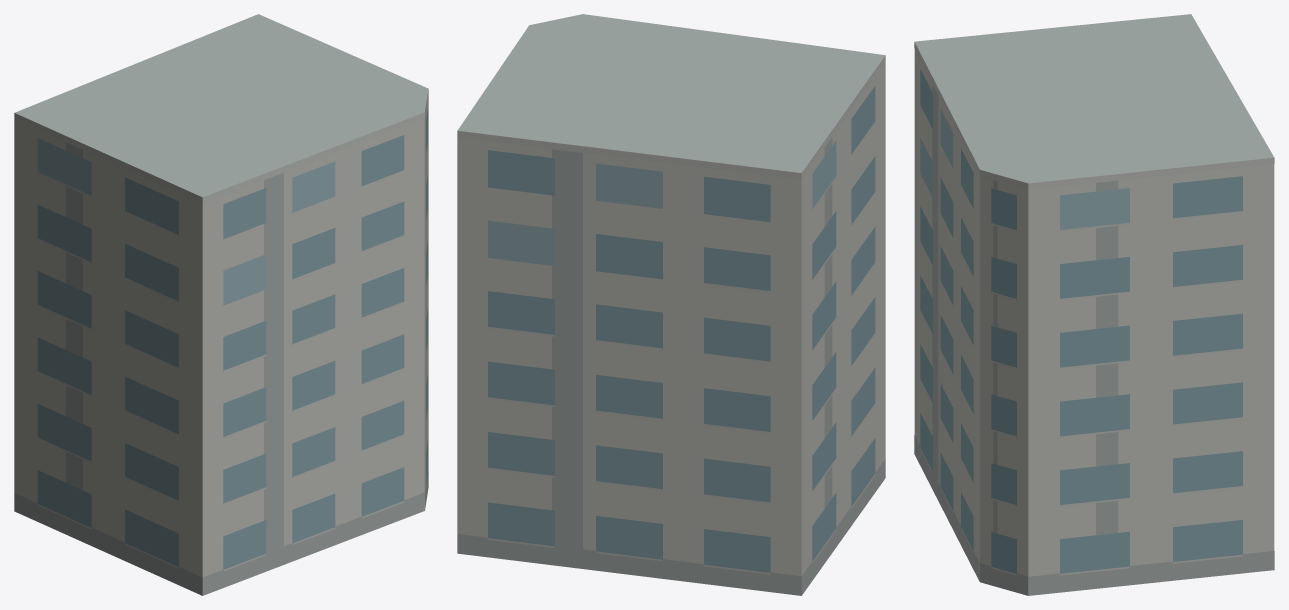
Rendered from survey-upis-32910946.glb.
3 views of the same model, side by side, from view 1: azimuth 30°, elevation 25°; view 2: azimuth 150°, elevation 25°; view 3: azimuth 270°, elevation 25° (orthographic). The views are drawn at different scales.
Parts seen in each view (by area): view 1: survey-upis-32910946.tmp; view 2: survey-upis-32910946.tmp; view 3: survey-upis-32910946.tmp.
Part boxes in pixels (left/top/right/bottom): survey-upis-32910946.tmp: left=14, top=14, right=428, bottom=595; survey-upis-32910946.tmp: left=457, top=14, right=885, bottom=595; survey-upis-32910946.tmp: left=914, top=14, right=1274, bottom=595.
Bounding box in the file's own units: 13.49 × 15.3 × 12.11.
